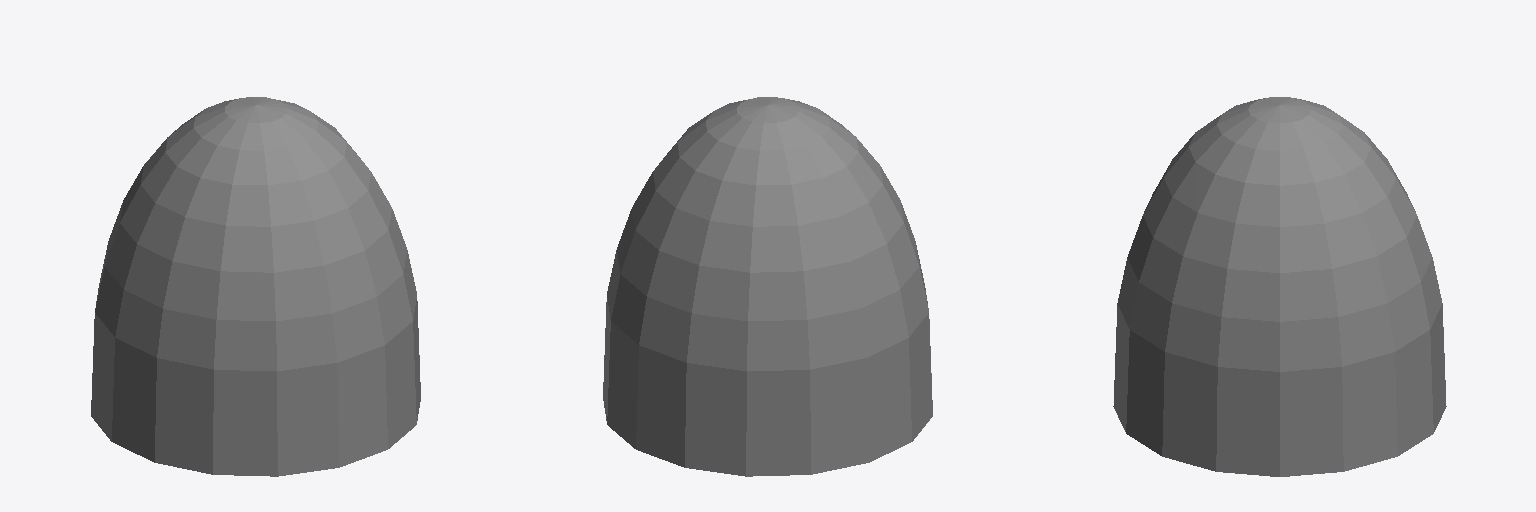
The model's file is w3_skybox.obj.
The picture shows the model from 3 angles: view 1: azimuth 30°, elevation 25°; view 2: azimuth 150°, elevation 25°; view 3: azimuth 270°, elevation 25°; orthographic projection.
Parts seen in each view (by area): view 1: default; view 2: default; view 3: default.
Part boxes in pixels (left/top/right/bottom): default: left=91, top=97, right=420, bottom=476; default: left=603, top=97, right=932, bottom=476; default: left=1113, top=97, right=1446, bottom=476.
Size of the model in its own units: 1 by 1 by 1.